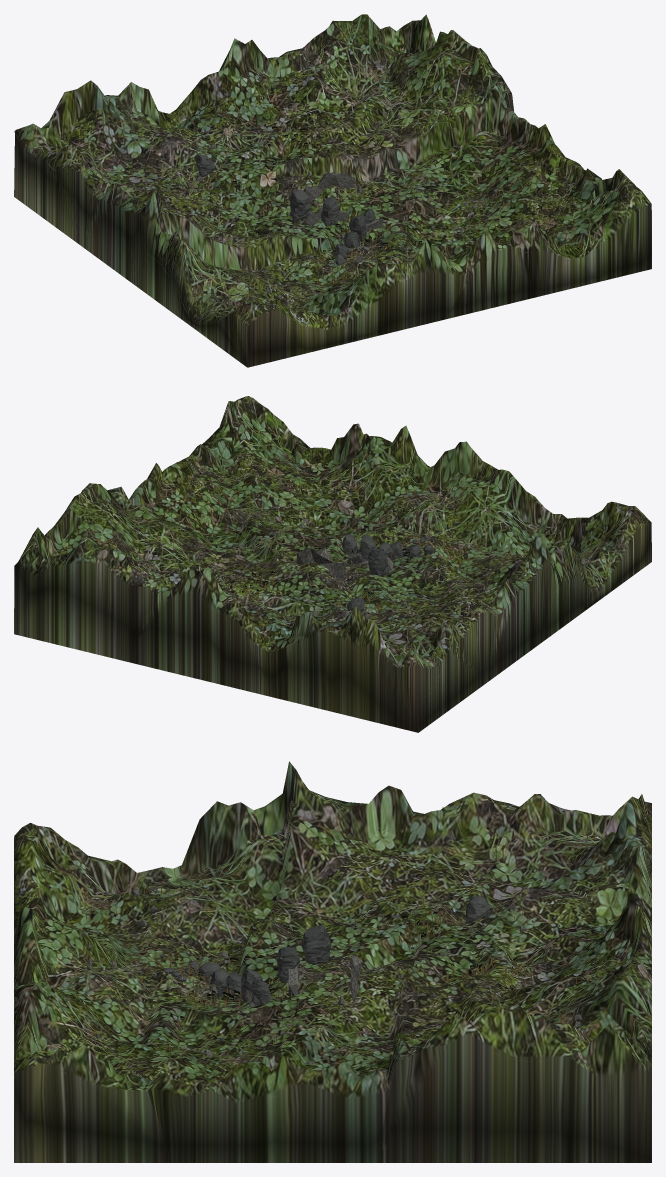
The model's file is world008_LOD2.fbx.
3 renders of one model, top to bottom at view 1: azimuth 30°, elevation 25°; view 2: azimuth 150°, elevation 25°; view 3: azimuth 270°, elevation 25°, orthographic. The views are drawn at different scales.
Parts seen in each view (by area): view 1: LODMesh_0220, LODMesh_0221, LODMesh_0219, LODMesh_0218, LODMesh_0338, LODMesh_0319, LODMesh_0339, LODMesh_0334, LODMesh_0321, LODMesh_0345, LODMesh_0326, LODMesh_0340 (+25 smaller); view 2: LODMesh_0219, LODMesh_0221, LODMesh_0220, LODMesh_0218, LODMesh_0336, LODMesh_0323, LODMesh_0343, LODMesh_0329, LODMesh_0324, LODMesh_0337, LODMesh_0330, LODMesh_0345 (+25 smaller); view 3: LODMesh_0218, LODMesh_0221, LODMesh_0219, LODMesh_0220, LODMesh_0313, LODMesh_0320, LODMesh_0318, LODMesh_0332, LODMesh_0327, LODMesh_0315, LODMesh_0330, LODMesh_0319 (+25 smaller).
Boxes of the visible parts, x1,y1,x2,y2 form: LODMesh_0220: [247, 196, 651, 367]; LODMesh_0221: [14, 123, 253, 367]; LODMesh_0219: [15, 14, 413, 151]; LODMesh_0218: [409, 14, 651, 207]; LODMesh_0338: [364, 106, 467, 187]; LODMesh_0319: [197, 220, 306, 274]; LODMesh_0339: [320, 81, 429, 148]; LODMesh_0334: [234, 53, 321, 130]; LODMesh_0321: [120, 136, 226, 195]; LODMesh_0345: [390, 45, 472, 105]; LODMesh_0326: [227, 157, 331, 220]; LODMesh_0340: [299, 40, 389, 96]; LODMesh_0219: [14, 536, 418, 732]; LODMesh_0221: [413, 508, 651, 732]; LODMesh_0220: [252, 397, 651, 557]; LODMesh_0218: [19, 396, 257, 560]; LODMesh_0336: [238, 475, 345, 531]; LODMesh_0323: [411, 474, 501, 538]; LODMesh_0343: [150, 478, 237, 535]; LODMesh_0329: [343, 453, 431, 514]; LODMesh_0324: [377, 509, 478, 568]; LODMesh_0337: [201, 504, 304, 553]; LODMesh_0330: [305, 503, 411, 547]; LODMesh_0345: [71, 499, 157, 554]; LODMesh_0218: [14, 1004, 651, 1162]; LODMesh_0221: [37, 761, 631, 894]; LODMesh_0219: [593, 794, 651, 1159]; LODMesh_0220: [14, 823, 68, 1151]; LODMesh_0313: [223, 798, 336, 916]; LODMesh_0320: [329, 873, 441, 946]; LODMesh_0318: [118, 895, 230, 969]; LODMesh_0332: [330, 958, 441, 1041]; LODMesh_0327: [436, 907, 547, 976]; LODMesh_0315: [434, 828, 547, 888]; LODMesh_0330: [118, 983, 231, 1051]; LODMesh_0319: [223, 876, 336, 959].
Size of the model in its own units: 80013 by 20763 by 80000.
